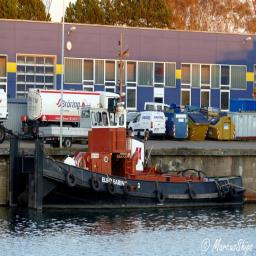tugboat: (7, 98, 250, 226)
